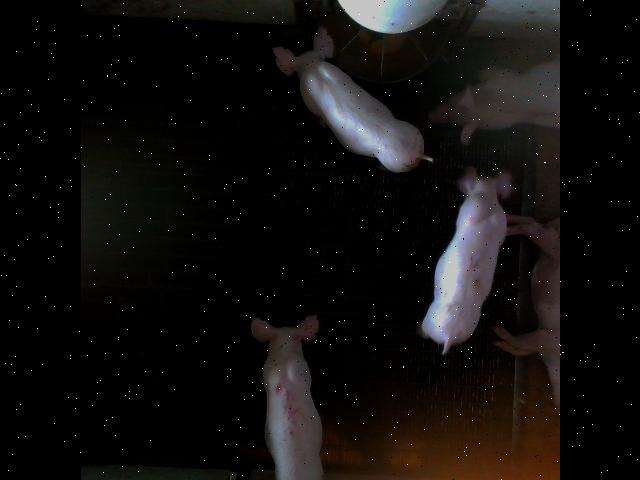pig-5: (251, 316, 322, 480)
